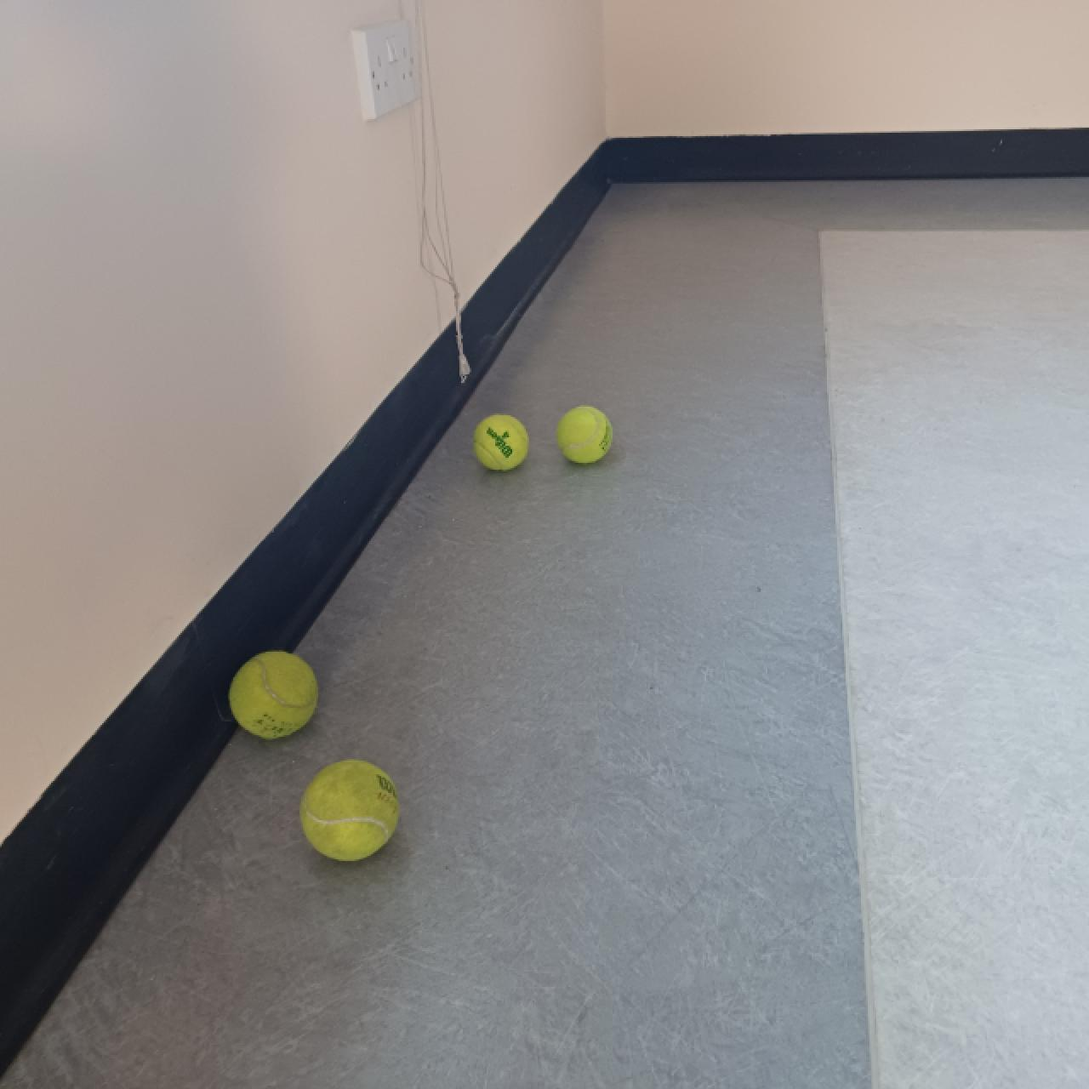tennis-ball: (299, 759, 403, 864), (227, 649, 322, 740), (555, 404, 615, 465), (472, 412, 530, 472)
